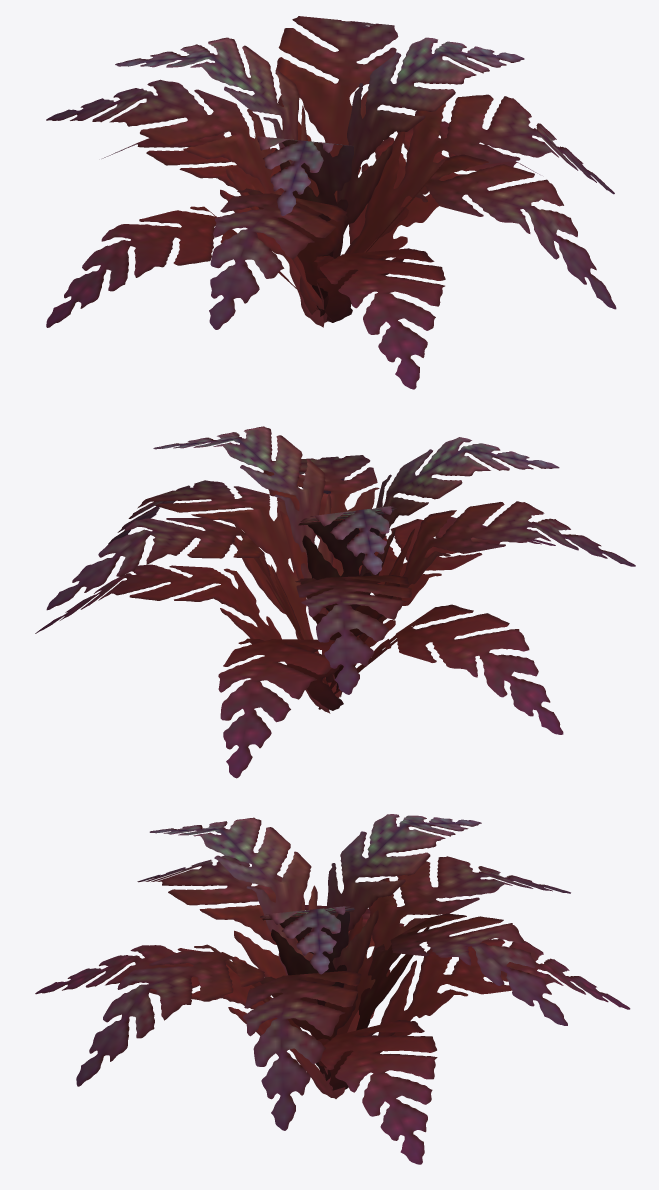
File: Scene_Grass_02_LOD0.FBX
3 views of the same model, one above another, from view 1: azimuth 30°, elevation 25°; view 2: azimuth 150°, elevation 25°; view 3: azimuth 270°, elevation 25° (orthographic). The views are drawn at different scales.
Visible parts, largest first — view 1: Scene_Grass_02; view 2: Scene_Grass_02; view 3: Scene_Grass_02.
Part boxes in pixels (x1,y1,x2,y2): Scene_Grass_02: (46,16,616,389); Scene_Grass_02: (35,426,635,778); Scene_Grass_02: (35,814,630,1164).
Bounding box in the file's own units: 85.09 × 40.61 × 93.39.
